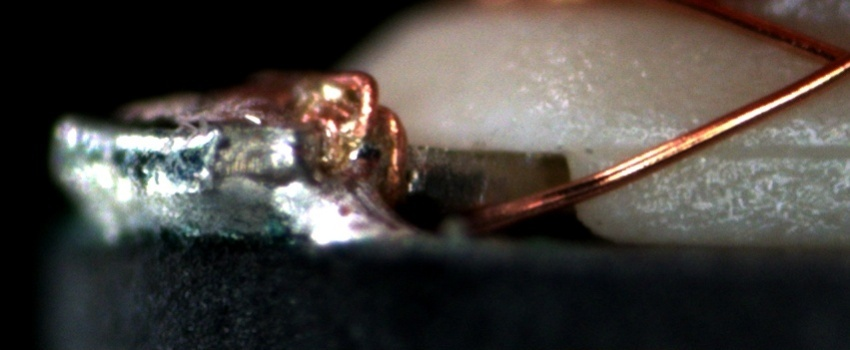CL: (798, 29, 849, 89)
DL: (676, 120, 849, 179)
TE: (311, 67, 407, 207)
